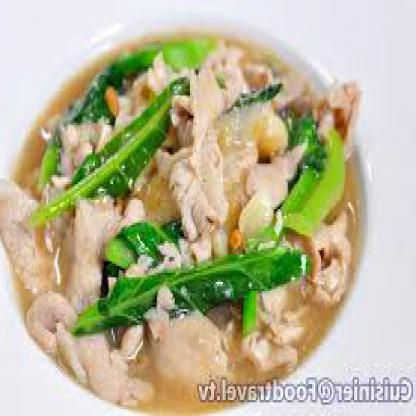Laadna: (9, 20, 374, 414)
